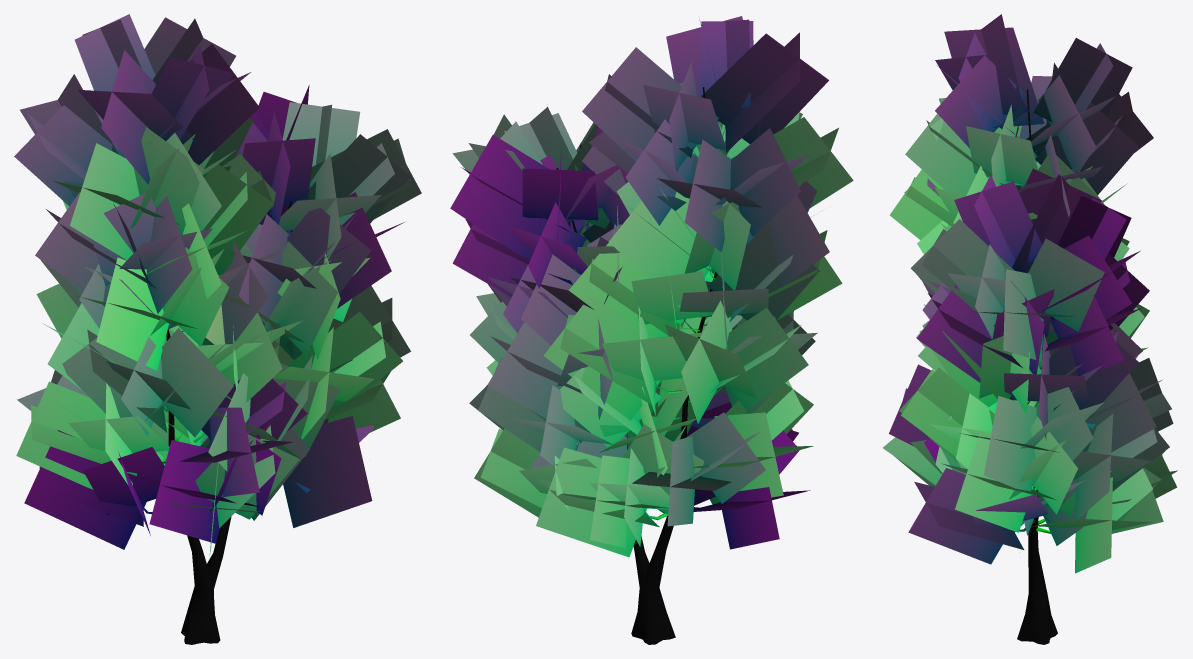
Rendered from Tree_5_9.fbx.
3 views of the same model, side by side, from view 1: azimuth 30°, elevation 25°; view 2: azimuth 150°, elevation 25°; view 3: azimuth 270°, elevation 25° (orthographic). The views are drawn at different scales.
Parts seen in each view (by area): view 1: _9; view 2: _9; view 3: _9.
Boxes of the visible parts, box(x1,y1,x2,y2) form: _9: box(14, 14, 421, 644); _9: box(450, 16, 853, 644); _9: box(883, 14, 1177, 644).
Size of the model in its own units: 1357 by 2155 by 999.
